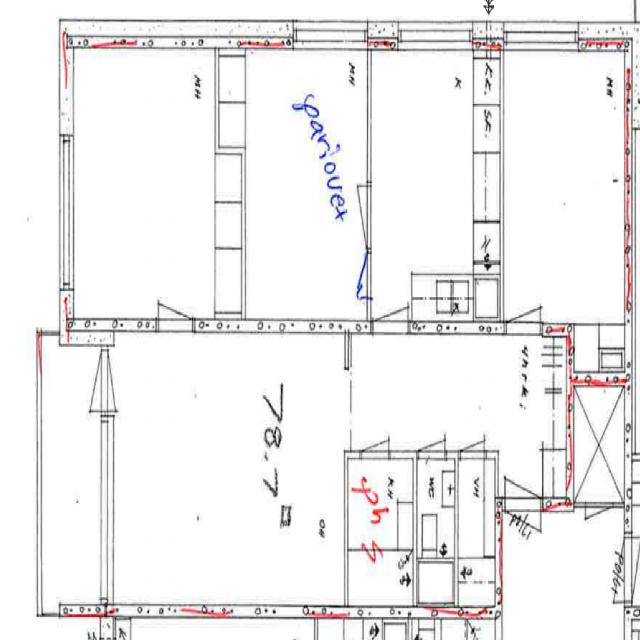door: (373, 256, 409, 330), (505, 498, 540, 573), (505, 436, 540, 510), (158, 256, 193, 330), (101, 349, 142, 411), (66, 349, 107, 411), (507, 258, 540, 330), (335, 240, 371, 298), (335, 183, 371, 240), (360, 402, 389, 458), (418, 405, 444, 459), (460, 408, 484, 458)
